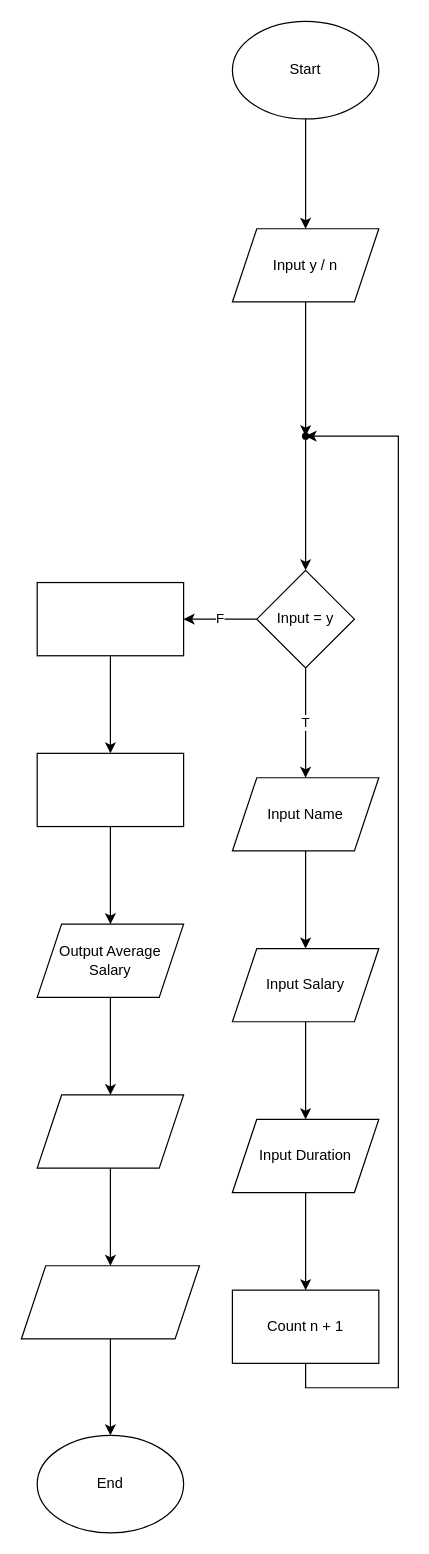
This 429x1554 diagram has some shape labels left out. The centre of each missing label's shape, as x and y in pixels:
"Find Average Salary = Sum Salary / n" belongs at point (110, 789).
"Find Sum of Salary" belongs at point (110, 618).
"Output Sum Salary" belongs at point (110, 1131).
"Output The Most high duration employee info" belongs at point (109, 1302).
